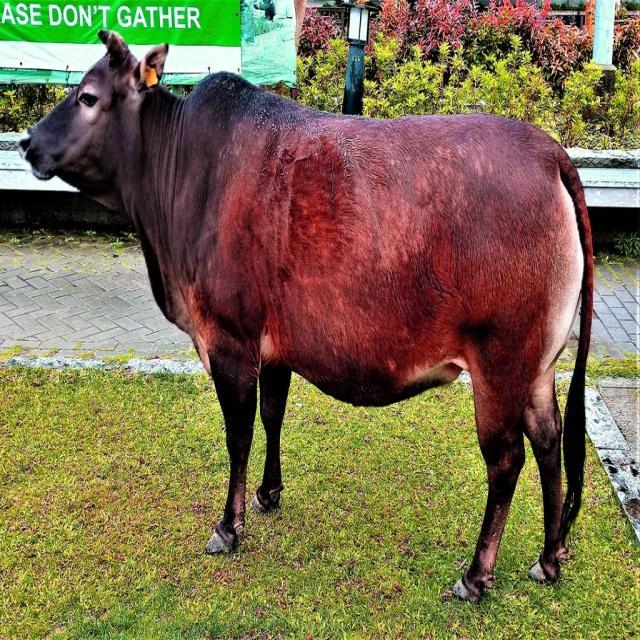cow: (20, 32, 592, 600)
